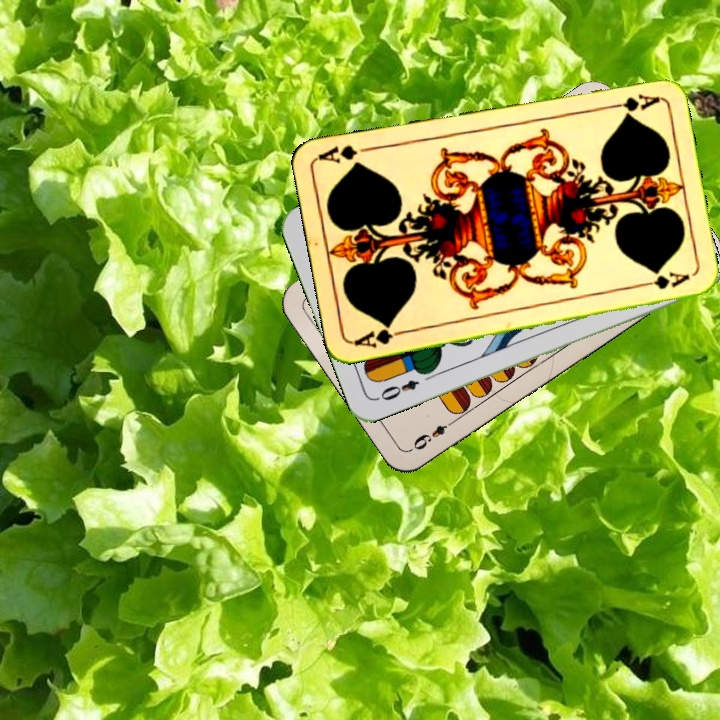E9: (407, 415, 460, 453)
EO: (372, 375, 422, 404)
GA: (350, 320, 409, 351), (602, 89, 661, 114)
